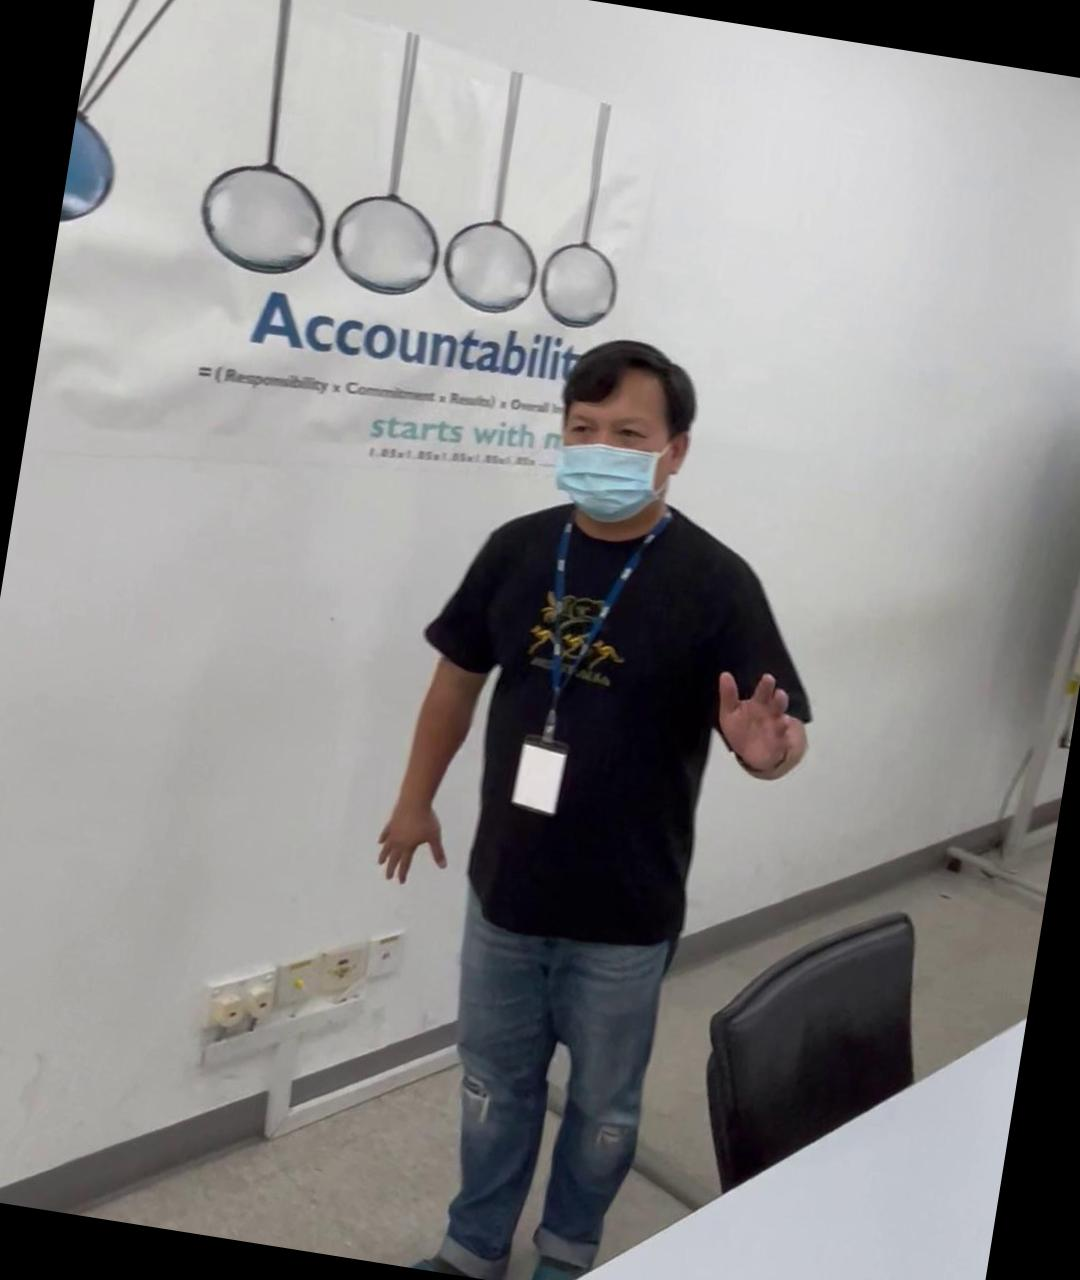No-gloves: (700, 653, 819, 793), (367, 782, 454, 893)
